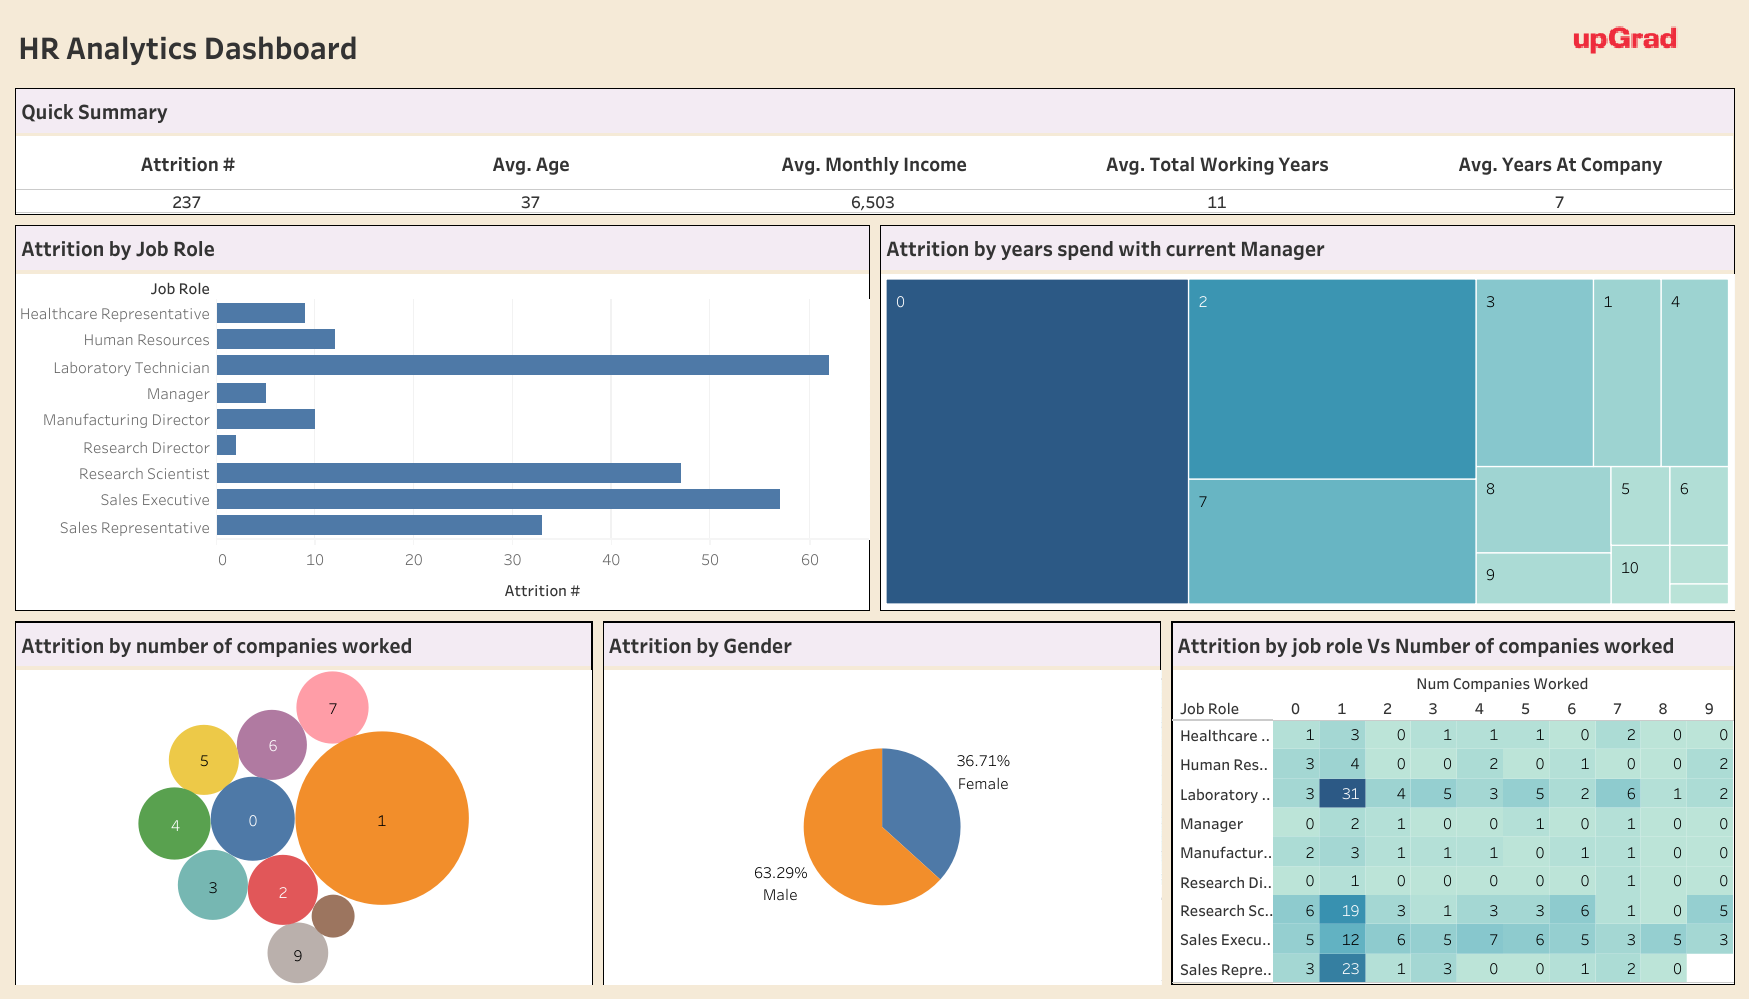

Layout of this report page (visuals, bound fields, positions):
{"tool":"tableau","page":{"name":"Dashboard 1","canvas":[1000,1000],"units":"permille","ordinal":0},"visuals":[{"type":"title","box":[5.7,9.4,988.6,68.1]},{"type":"image","param":"Image/UpGrad.png","box":[897.9,9.4,96.4,58.7]},{"type":"worksheet","title":"Sheet 1","mark":"Automatic","box":[5.7,77.5,988.6,138.5]},{"type":"worksheet","title":"Sheet 2","mark":"Automatic","rows":["JobRole"],"cols":["Calculation_824158792921448448"],"box":[5.7,215.9,494.3,399.1]},{"type":"worksheet","title":"Sheet 3","mark":"Automatic","box":[500,215.9,494.3,399.1]},{"type":"worksheet","title":"Sheet 4","mark":"Circle","box":[5.7,615,335.7,375.6]},{"type":"worksheet","title":"Sheet 5","mark":"Pie","box":[341.4,615,325,375.6]},{"type":"worksheet","title":"Sheet 6","mark":"Square","rows":["JobRole"],"cols":["NumCompaniesWorked"],"box":[666.4,615,327.9,375.6]}]}

Visuals, with their boxes on the dashboard's canvas, which has no fixed pixel size, in thousandths of its width and height (x1, y1, x2, y2). These are canvas units, not pixel positions in the 1749x999 screenshot, which may show the page scaled, cropped or inside an application window:
title: 6 9 994 78
image: 898 9 994 68
"Sheet 1" worksheet: 6 78 994 216
"Sheet 2" worksheet: 6 216 500 615
"Sheet 3" worksheet: 500 216 994 615
"Sheet 4" worksheet (Circle marks): 6 615 341 991
"Sheet 5" worksheet (Pie marks): 341 615 666 991
"Sheet 6" worksheet (Square marks): 666 615 994 991
